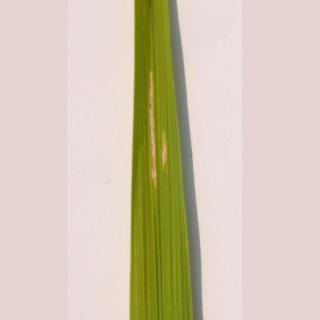Hawar-Daun: (139, 73, 175, 194)
